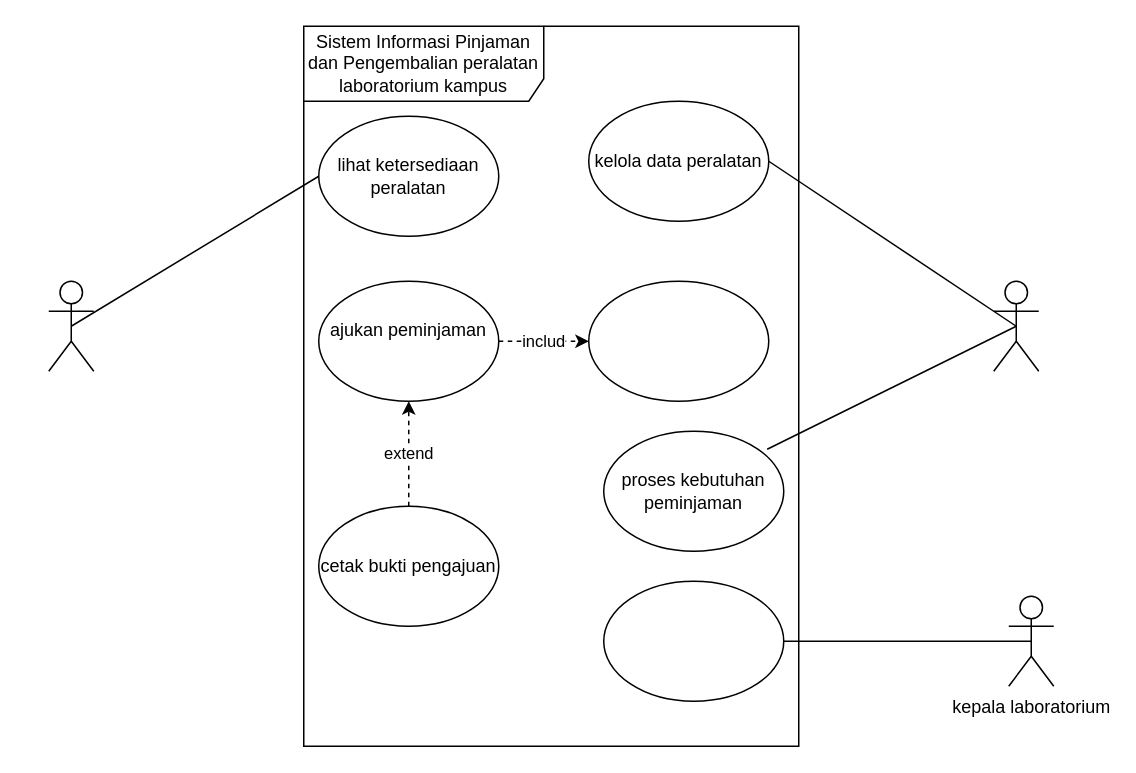
Some shapes in this 1136 by 773 pixel diagram are drawn without their labels. Here are the shapes that lost their labels. From the top down, the centre of each, then its label:
(x=70, y=325): mahasiswa
(x=678, y=340): periksa ketersediaan
(x=1015, y=325): petugas laboran
(x=693, y=640): lihat laporan peminjaman
